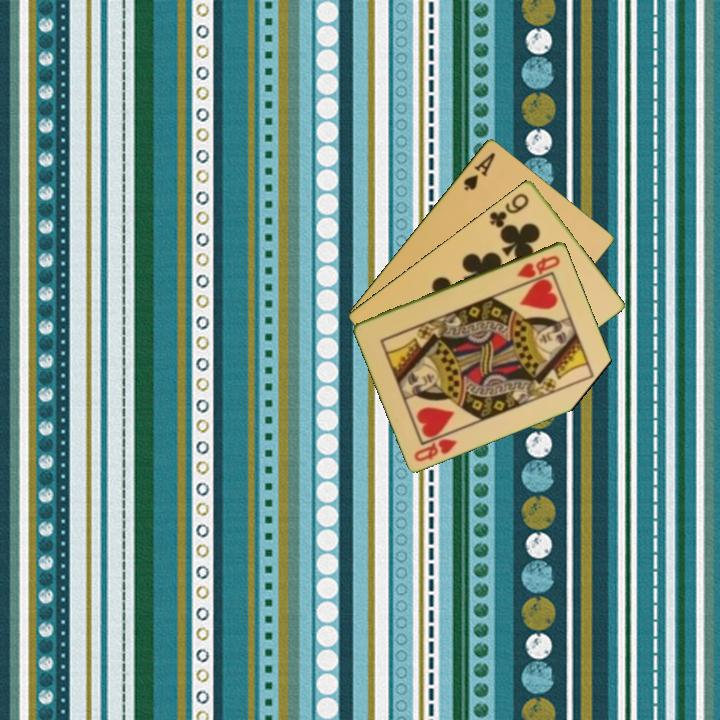9c: (486, 189, 532, 231)
As: (460, 148, 498, 193)
Qh: (411, 427, 461, 464), (513, 251, 563, 281)
